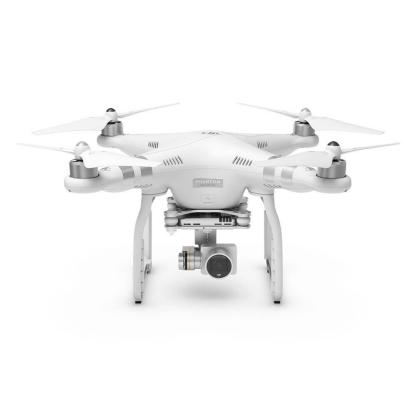drone: (30, 94, 402, 232)
